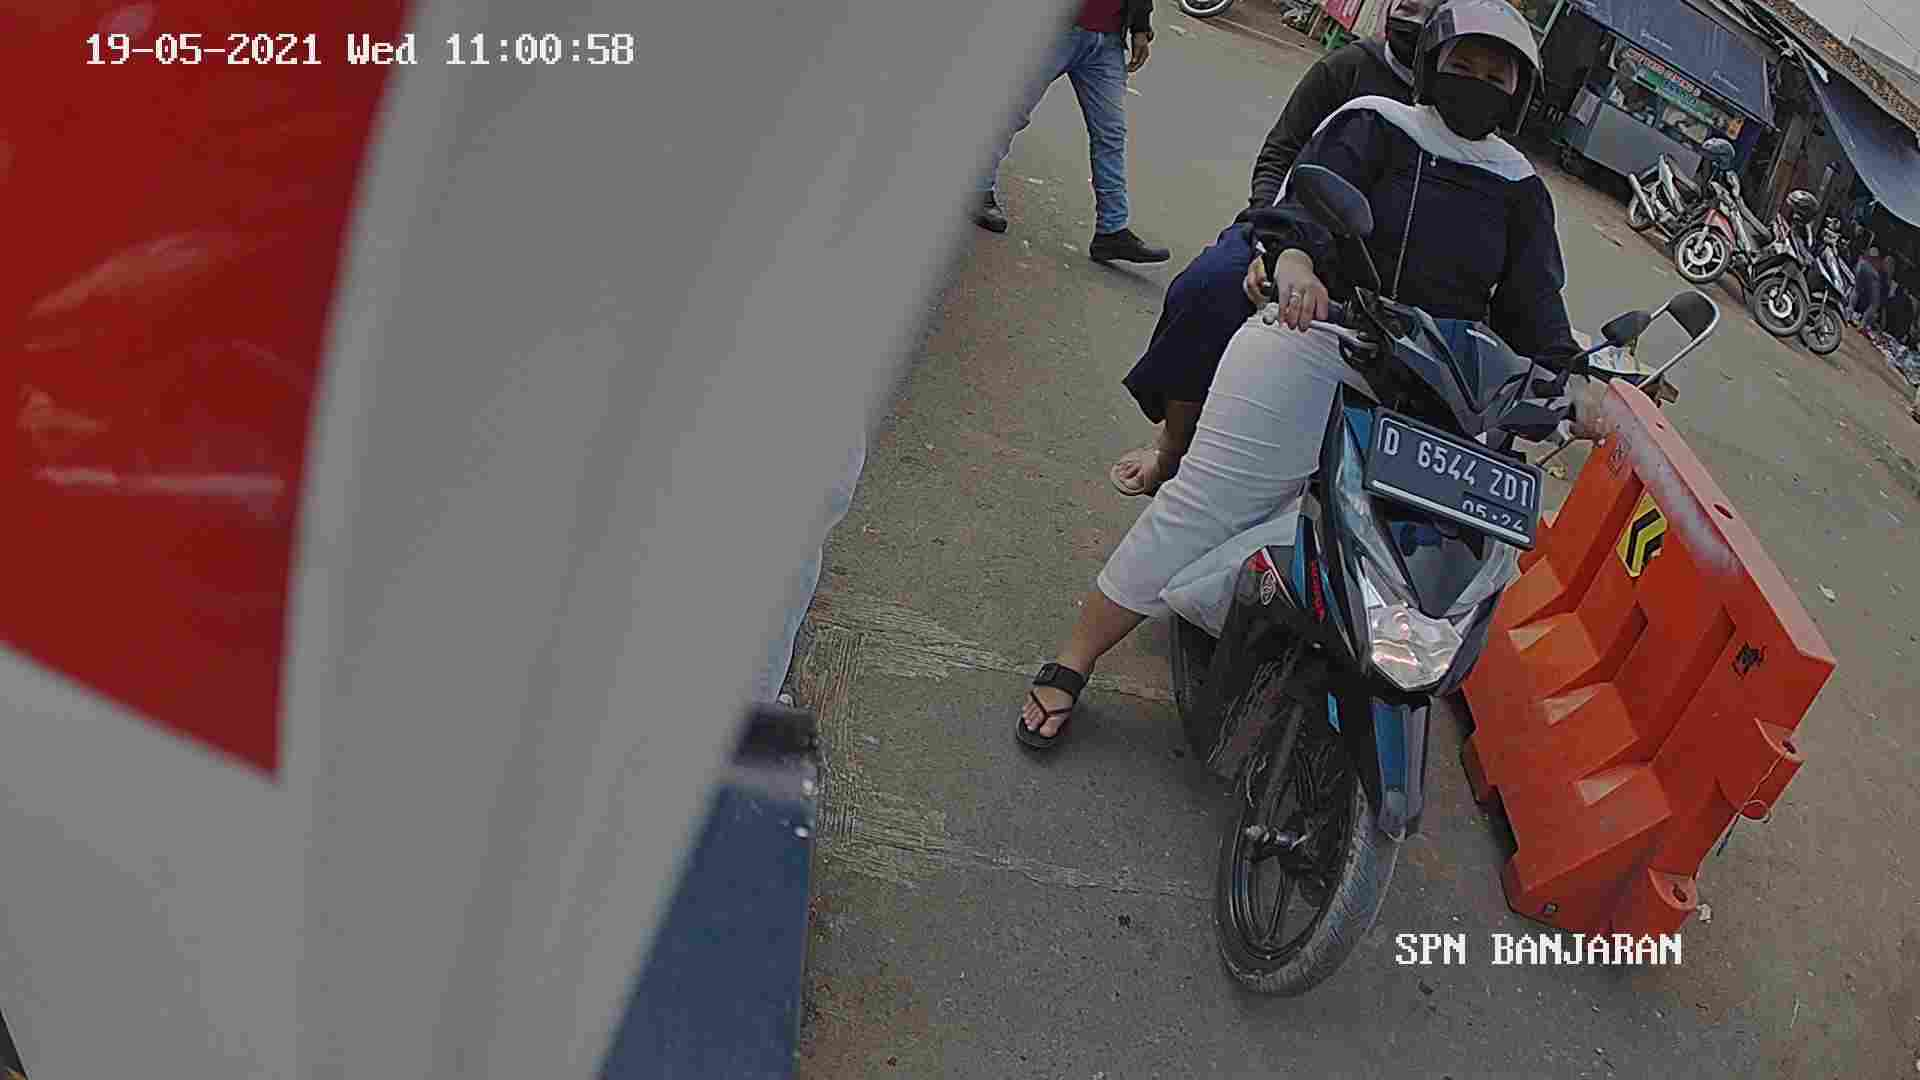motor: (1168, 316, 1524, 997)
